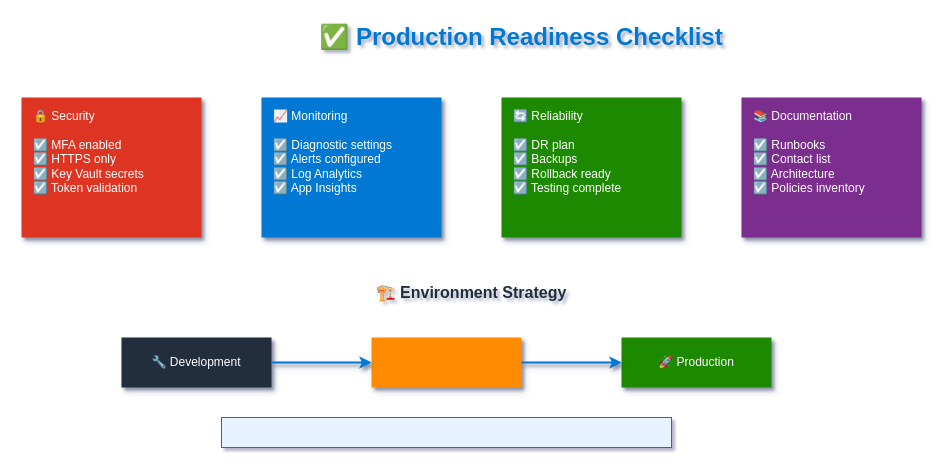
This 950x471 diagram has some shape labels left out. Each missing label, with the centre of its shape:
"✅ Best Practices: Separate tenants or policy prefixes per environment" belongs at (446,432).
"🧪 Staging" belongs at (447,363).
